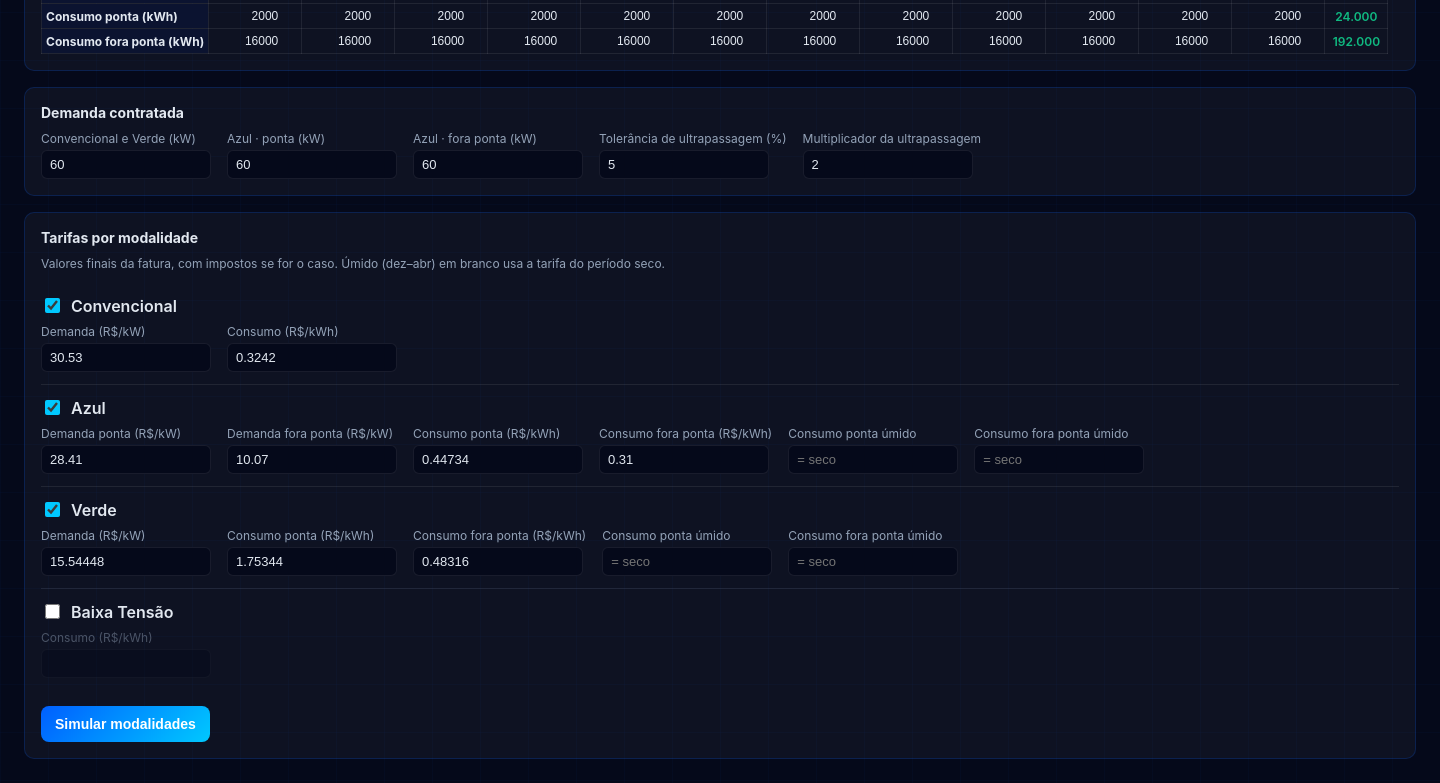
GridPage › pré-preenche com o exemplo, simula e mostra a recomendada
This screenshot has width=1440, height=783.
(page scrolled)
Expected: the field labelled "Demanda ponta (R$/kW)" holds "28.41", [41,445,211,474]
Click the button "Simular modalidades" at (125, 724), box [41,706,210,742]
(page scrolled)
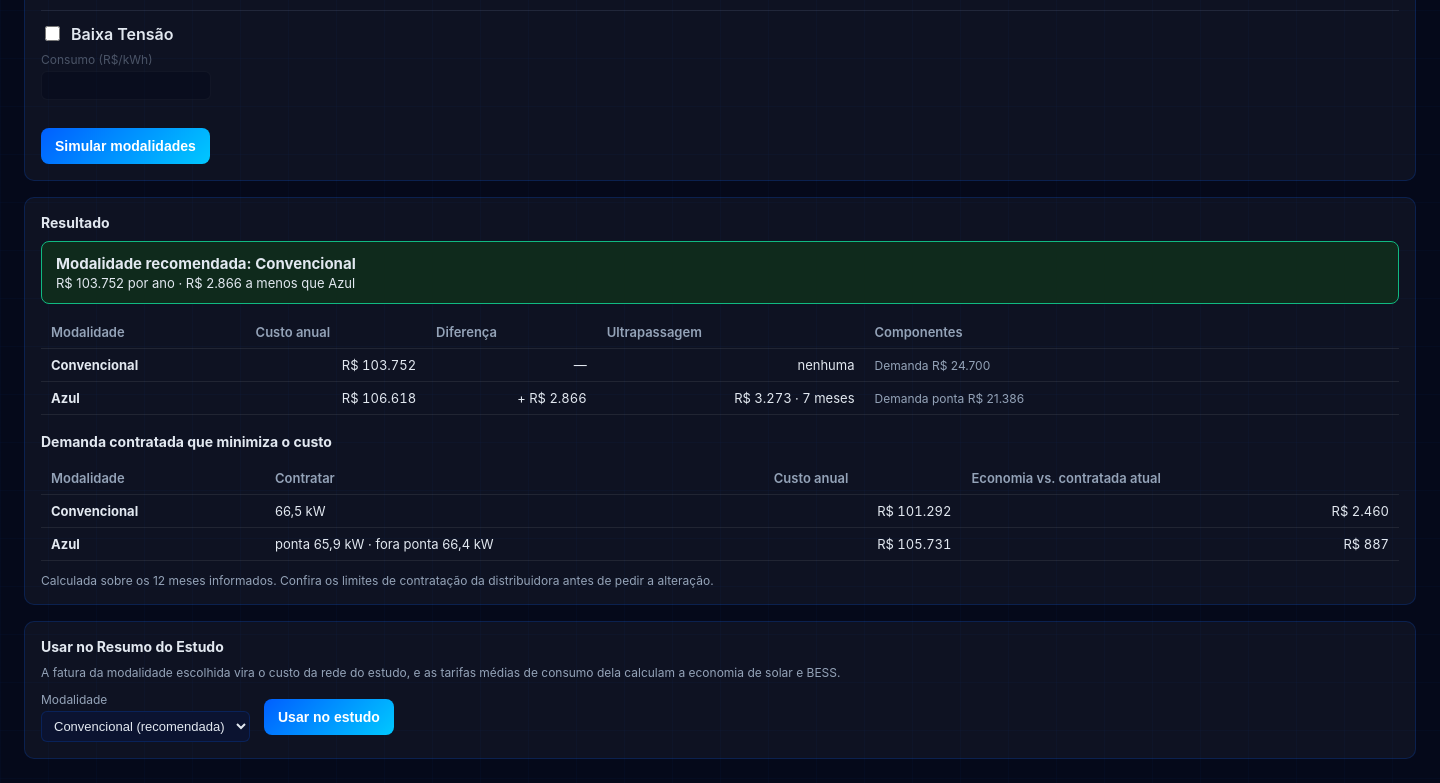
Result: the text "Modalidade recomendada: Convencional" is shown at [56,254,356,273]
Result: the text "R$ 103.752 por ano · R$ 2.866 a menos que Azul" is shown at [56,275,355,291]
Result: the text "ponta 65,9 kW · fora ponta 66,4 kW" is shown at [265,528,764,560]
